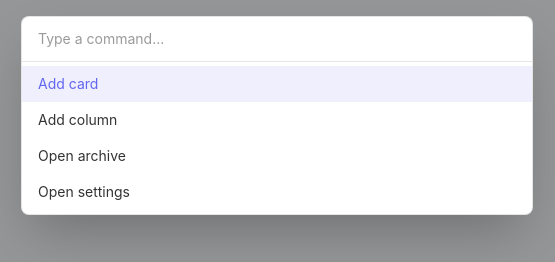
it: CommandPalette › filters actions by search query
Type "settings" into the field with test id "command-palette-input" at coordinates (277, 40), box [22, 17, 532, 62]
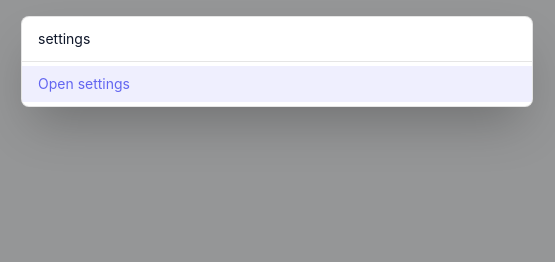
Expected: the option with test id "command-open-settings" is shown, [22, 66, 532, 102]
Expected: the option with test id "command-add-card" is gone
Expected: the option with test id "command-add-column" is gone
